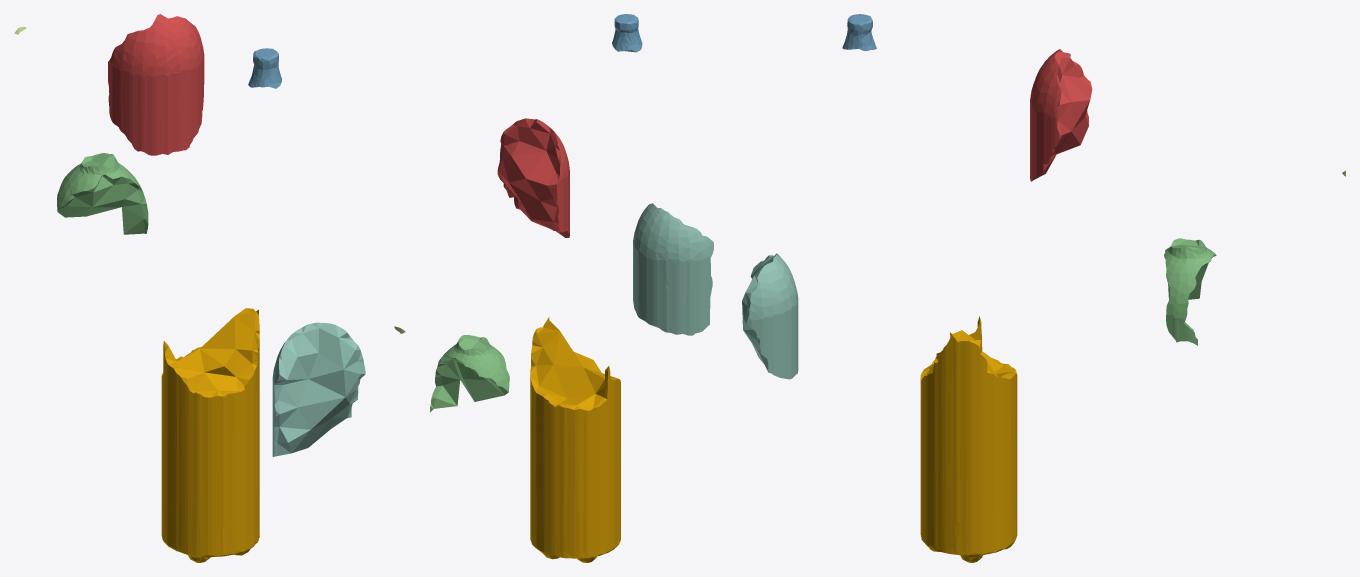
The model's file is mode_8_6pcs_transformed.glb.
3 views of the same model, side by side, from view 1: azimuth 30°, elevation 25°; view 2: azimuth 150°, elevation 25°; view 3: azimuth 270°, elevation 25° (orthographic). The views are drawn at different scales.
Visible parts, largest first — view 1: piece_0.obj, piece_1.obj, piece_4.obj, piece_3.obj, piece_2.obj; view 2: piece_0.obj, piece_4.obj, piece_1.obj, piece_3.obj, piece_2.obj; view 3: piece_0.obj, piece_1.obj, piece_4.obj, piece_3.obj, piece_2.obj.
Part boxes in pixels (x1,y1,x2,y2): piece_0.obj: (161, 308, 259, 562); piece_1.obj: (108, 14, 204, 155); piece_4.obj: (272, 322, 365, 456); piece_3.obj: (57, 153, 148, 234); piece_2.obj: (248, 48, 281, 88); piece_0.obj: (530, 317, 620, 562); piece_4.obj: (633, 203, 713, 335); piece_1.obj: (497, 118, 569, 237); piece_3.obj: (430, 335, 509, 412); piece_2.obj: (612, 14, 642, 52); piece_0.obj: (920, 316, 1017, 562); piece_1.obj: (1030, 49, 1092, 181); piece_4.obj: (742, 253, 798, 379); piece_3.obj: (1164, 238, 1216, 345); piece_2.obj: (842, 14, 876, 50).
Size of the model in its own units: 0.2653 by 1.6 by 1.65.
